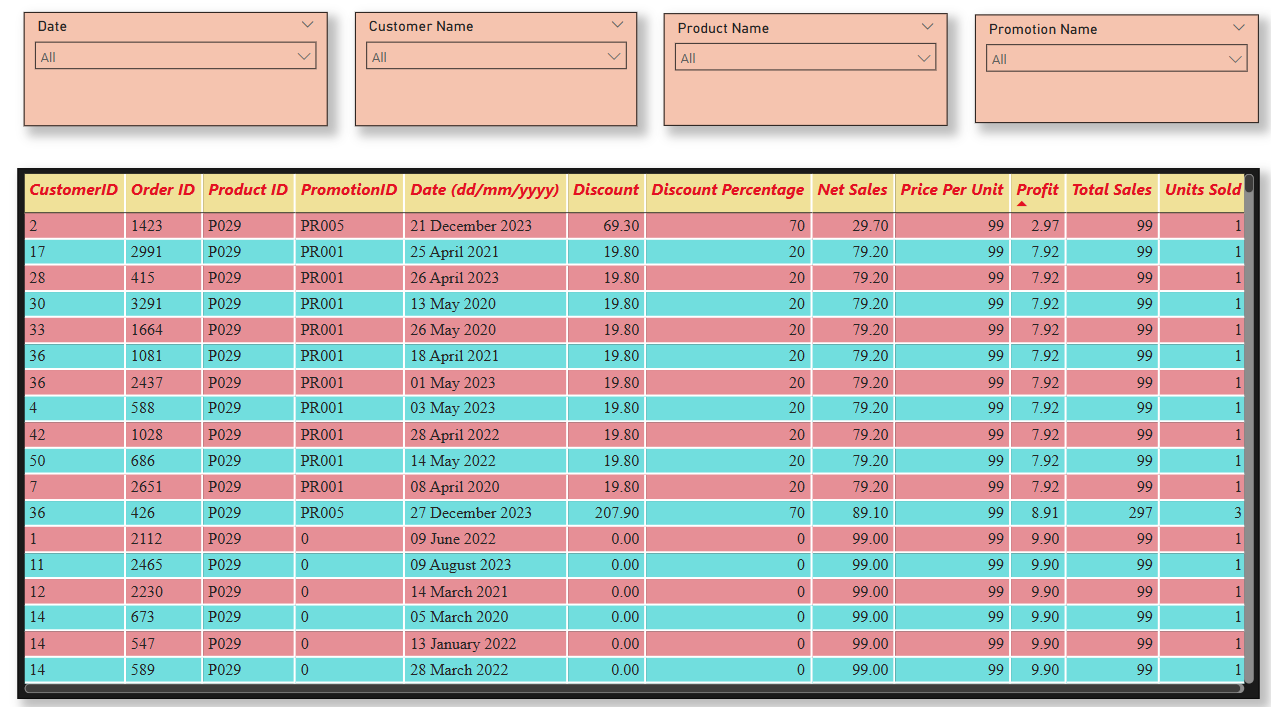

Layout of this report page (visuals, bound fields, positions):
{"tool":"powerbi","page":{"name":"Table Visual","canvas":[1280,720],"ordinal":4},"visuals":[{"type":"tableEx","fields":{"Values":["Fact Table.CustomerID","Fact Table.Order ID","Fact Table.Product ID","Fact Table.PromotionID","Fact Table.Date (dd/mm/yyyy)","Fact Table.Discount Values","Fact Table.Discount Percentage","Fact Table.Net Sales","Fact Table.Price Per Unit","Fact Table.Profit","Fact Table.Total Sales  ","Fact Table.Units Sold"]},"box":[22,175.6,1236.4,528.3],"z":0},{"type":"slicer","fields":{"Values":["Date Table 1.Date"]},"box":[28.6,19.9,302.3,113.2],"z":1000},{"type":"slicer","fields":{"Values":["Dim Product.Product Name"]},"box":[665.5,21.1,282.4,112],"z":2000},{"type":"slicer","fields":{"Values":["Dim Customers.Customer Name"]},"box":[358.3,19.9,281.1,113.2],"z":3000},{"type":"slicer","fields":{"Values":["Dim Promotion.Promotion Name"]},"box":[975.3,22.4,282.4,108.2],"z":4000}]}

Visuals, with their boxes in screenshot pixels (x1, y1, x2, y2), scaled from the page's 1280x720 canvas onto the 1271x707 screenshot:
tableEx - Fact Table.CustomerID x Fact Table.Order ID: {"x1": 22, "y1": 172, "x2": 1250, "y2": 691}
slicer - Date Table 1.Date: {"x1": 28, "y1": 20, "x2": 329, "y2": 131}
slicer - Dim Product.Product Name: {"x1": 661, "y1": 21, "x2": 941, "y2": 131}
slicer - Dim Customers.Customer Name: {"x1": 356, "y1": 20, "x2": 635, "y2": 131}
slicer - Dim Promotion.Promotion Name: {"x1": 968, "y1": 22, "x2": 1249, "y2": 128}
